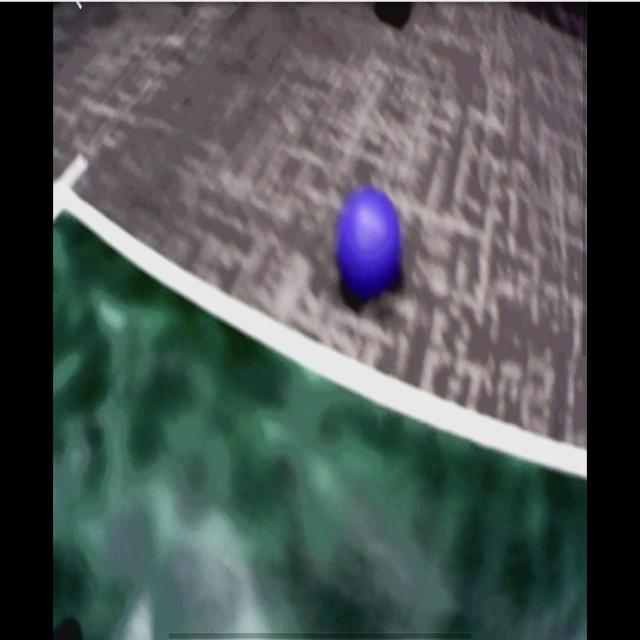ball: (338, 188, 404, 297)
